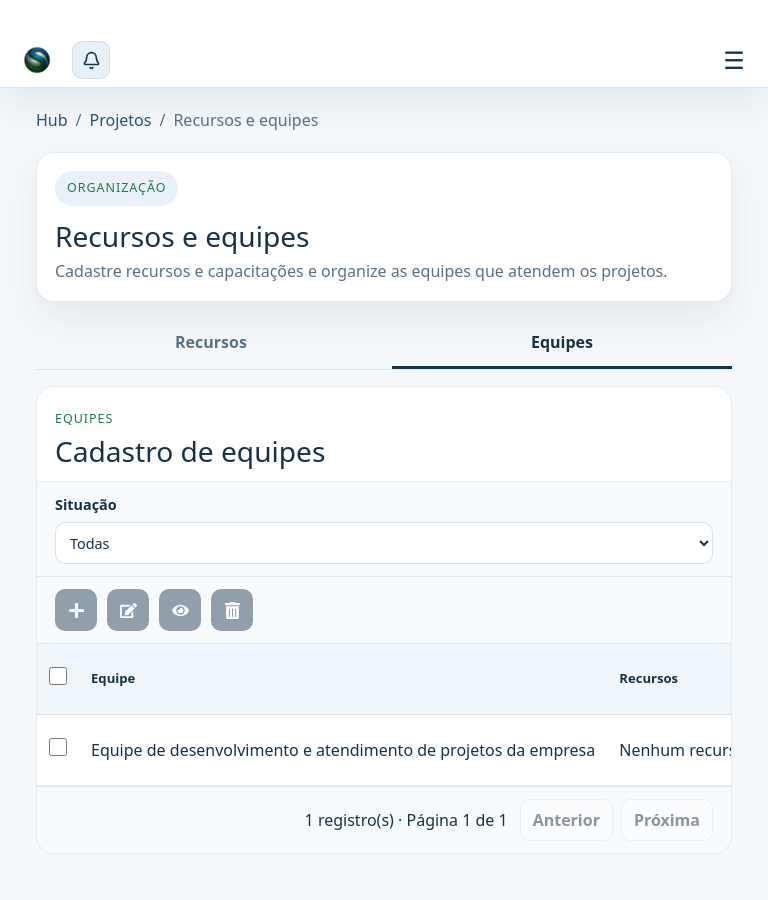
Scenario: navegação e layout com dados simulados › preserva o modal de Equipes em somente leitura em tablet
The image size is (768, 900).
Click the text "Equipe de desenvolvimento e atendimento de projetos da empresa" at (343, 751), box [79,715,607,786]
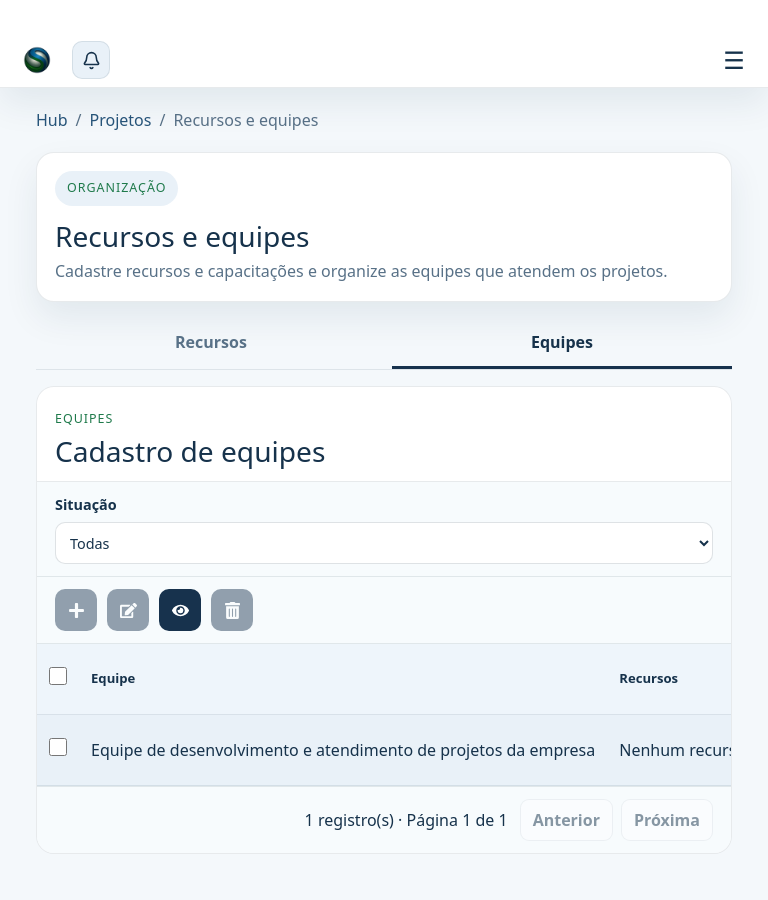
Click the button named "Visualizar" at (180, 611), box [159,590,201,632]
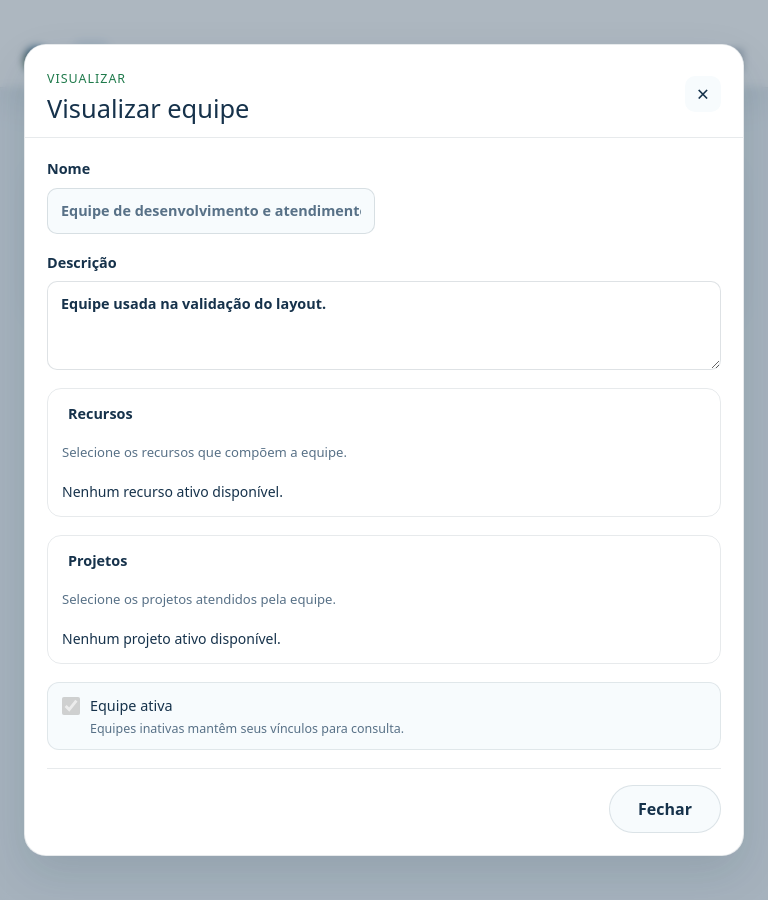
Check: the dialog is shown
Check: the heading "Visualizar equipe" is shown, box [47,93,249,124]
Check: the field labelled "Nome" is disabled, box [47,188,375,234]
Click the button "Fechar" at (665, 809), box [609,785,721,833]
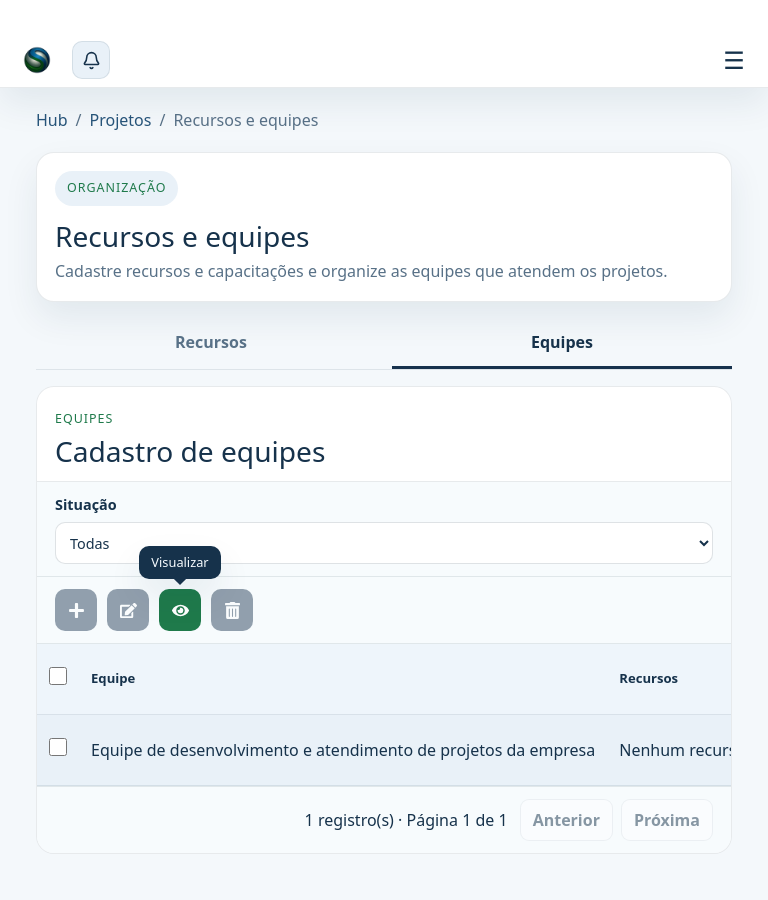
Check: the dialog is gone
